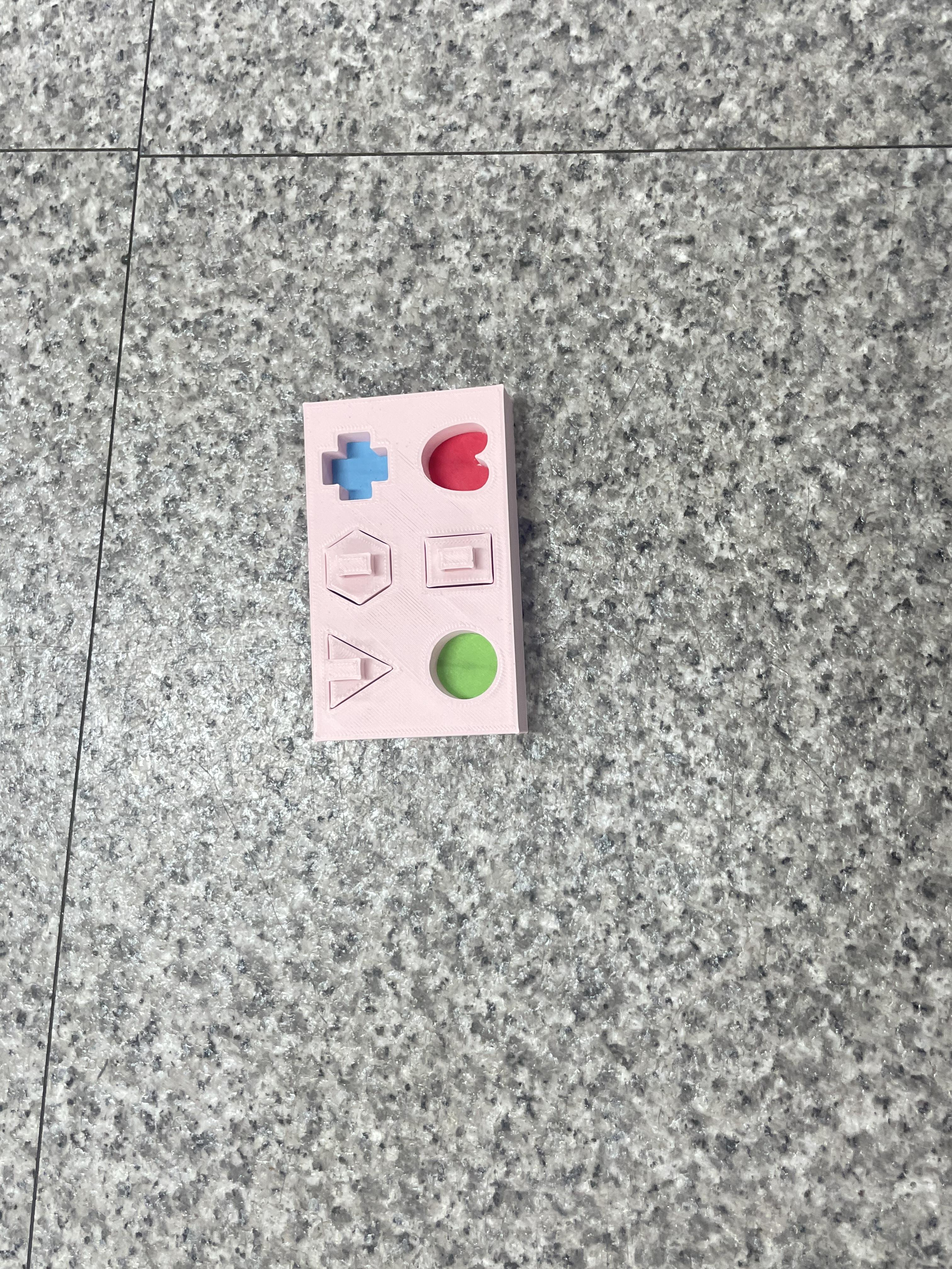unsolved: (286, 375, 546, 752)
